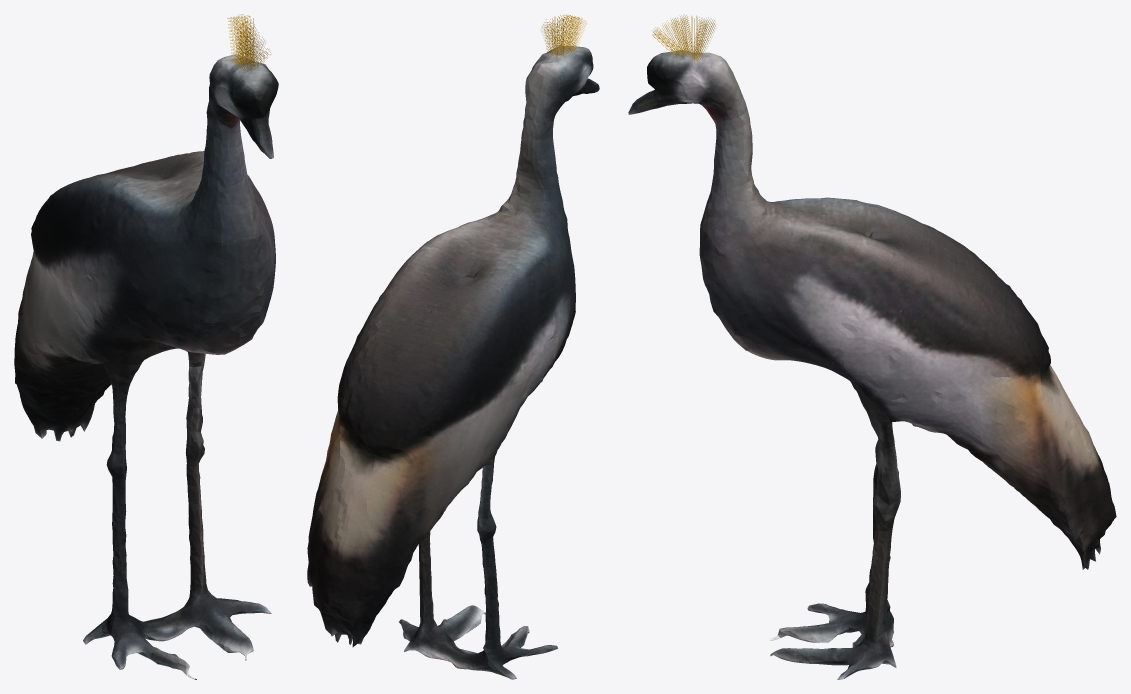
3 renders of one model, left to right at view 1: azimuth 30°, elevation 25°; view 2: azimuth 150°, elevation 25°; view 3: azimuth 270°, elevation 25°, orthographic. The views are drawn at different scales.
Visible parts, largest first — view 1: Mesh_0; view 2: Mesh_0; view 3: Mesh_0.
Boxes of the visible parts, box(x1,y1,x2,y2) form: Mesh_0: box(14, 14, 278, 679); Mesh_0: box(307, 14, 599, 679); Mesh_0: box(628, 14, 1116, 679).
Size of the model in its own units: 0.2881 by 1.05 by 0.7439.
2 materials, 1 textured.
